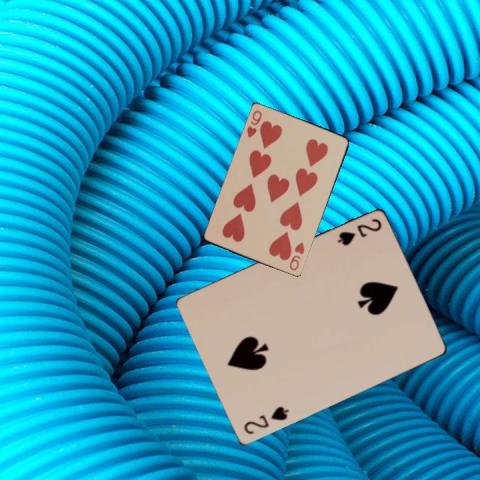2s: (334, 214, 383, 246), (241, 403, 290, 435)
9h: (287, 239, 306, 272), (244, 107, 263, 140)
